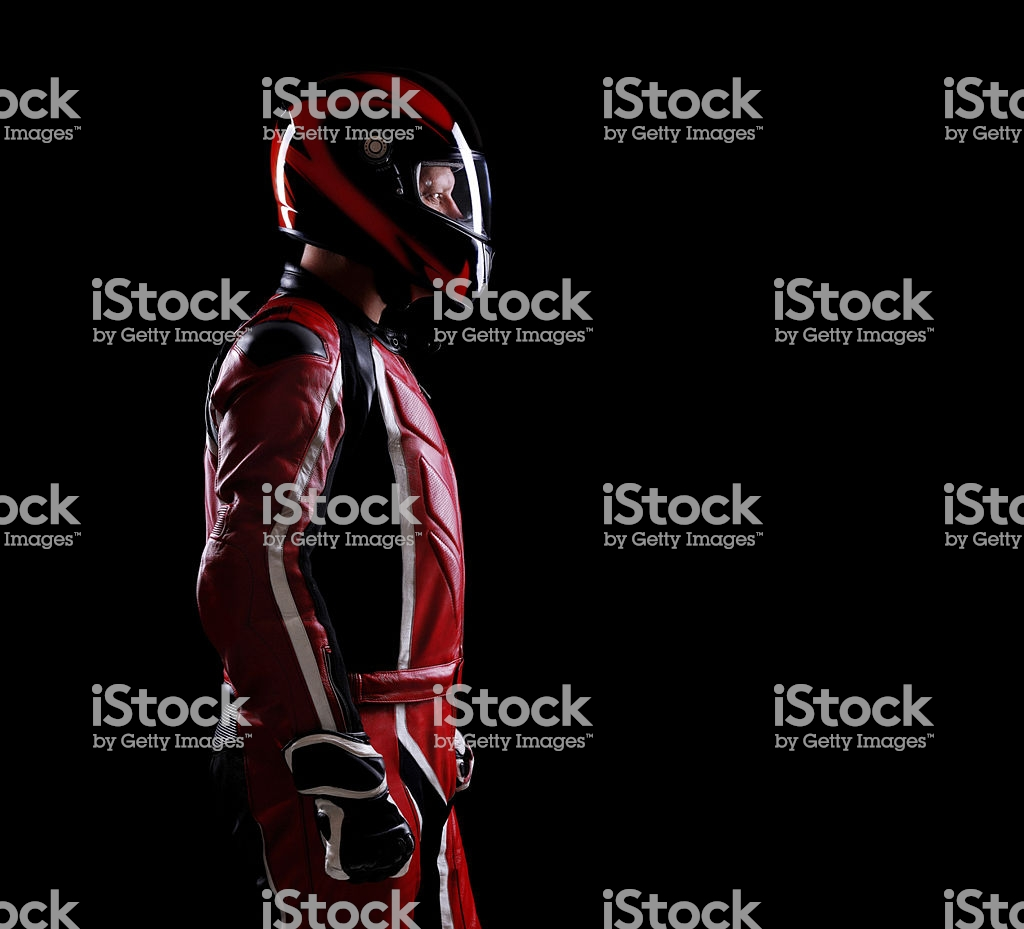helmet: (279, 58, 507, 311)
